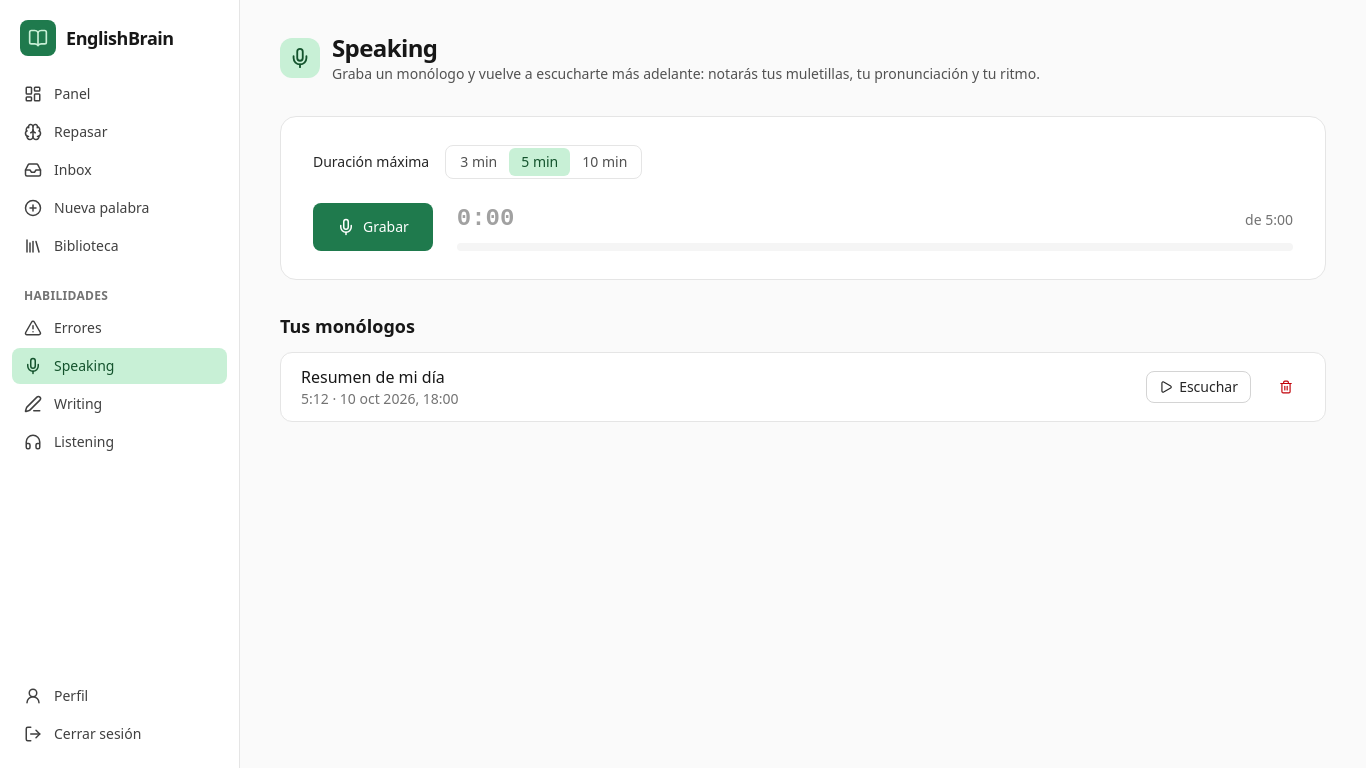
13.3 · Grabar, previsualizar y subir › "Subir" envía el MP3 con título, duración y límite, y lo pone arriba de la lista
Click the button "10 min" at (605, 162), box [570,148,639,176]
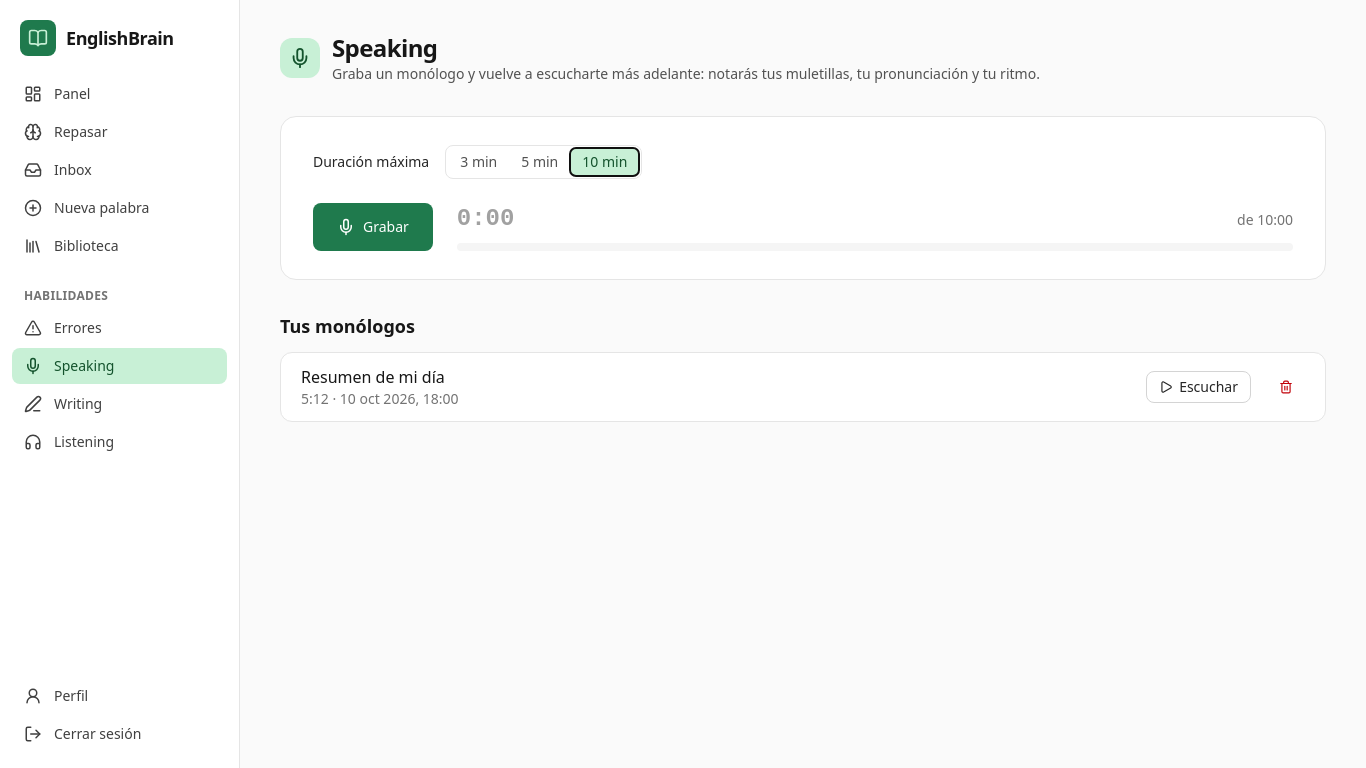
Click the button "Grabar" at (373, 227), box [313,203,433,251]
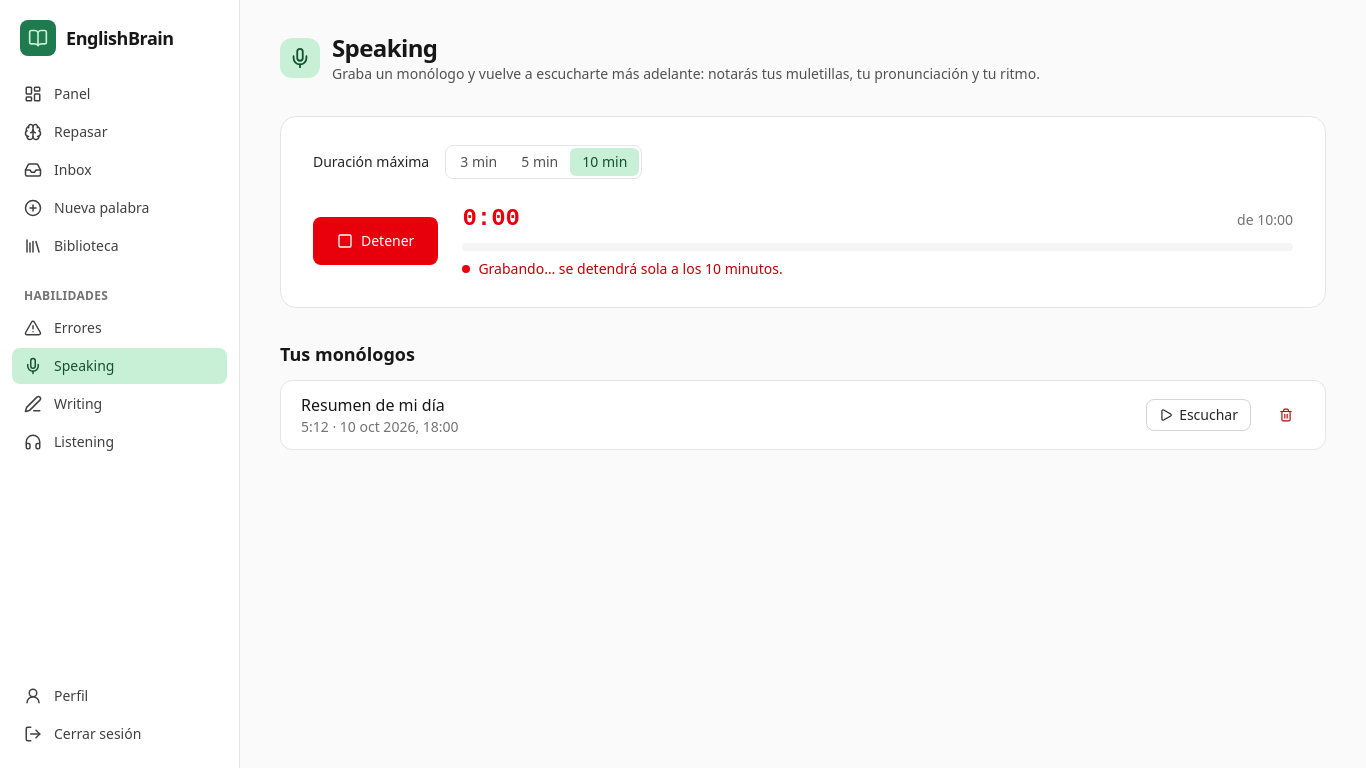
Click the button "Detener" at (376, 241), box [313,217,438,265]
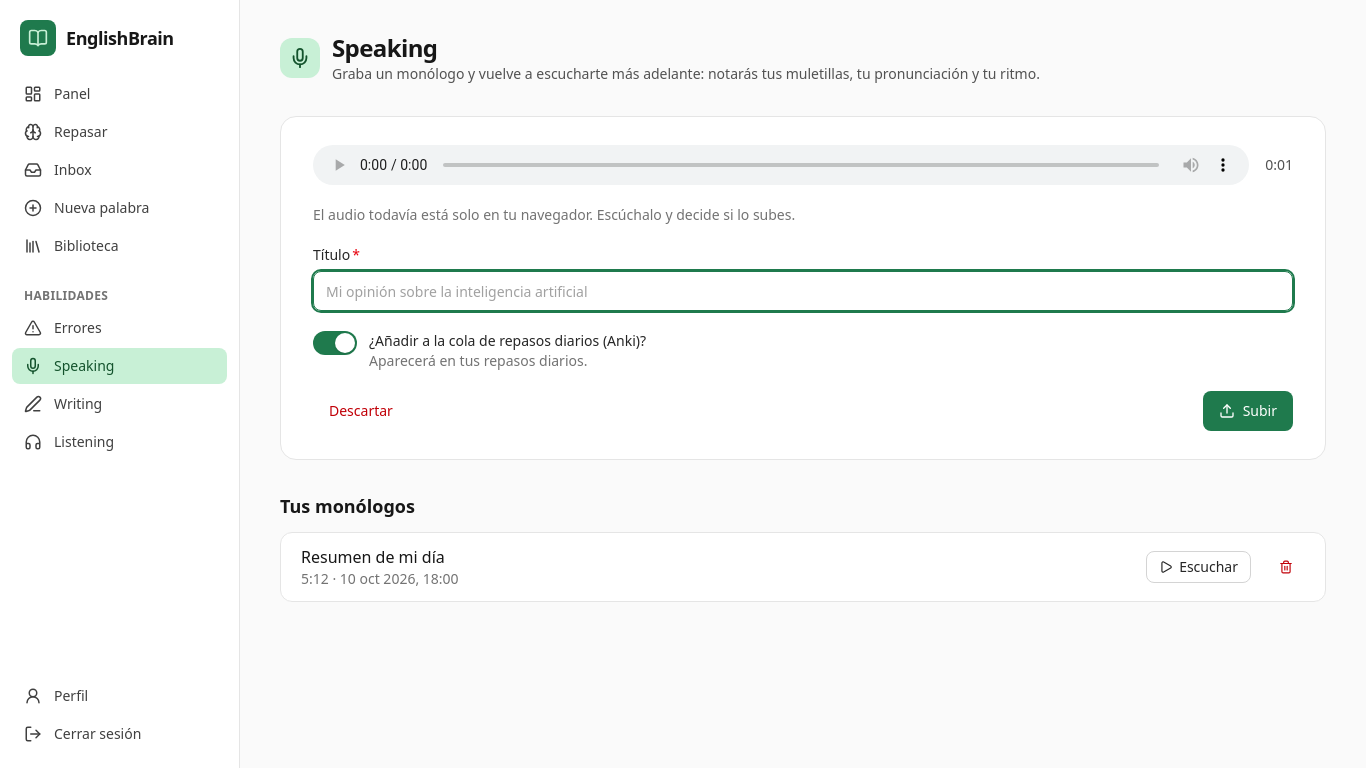
expect the element named "Escuchar tu grabación antes de subirla" is shown: met, box [313,145,1249,185]
Type "Mi opinión sobre la IA" into the field labelled "Título*" at (803, 291), box [313,271,1293,311]
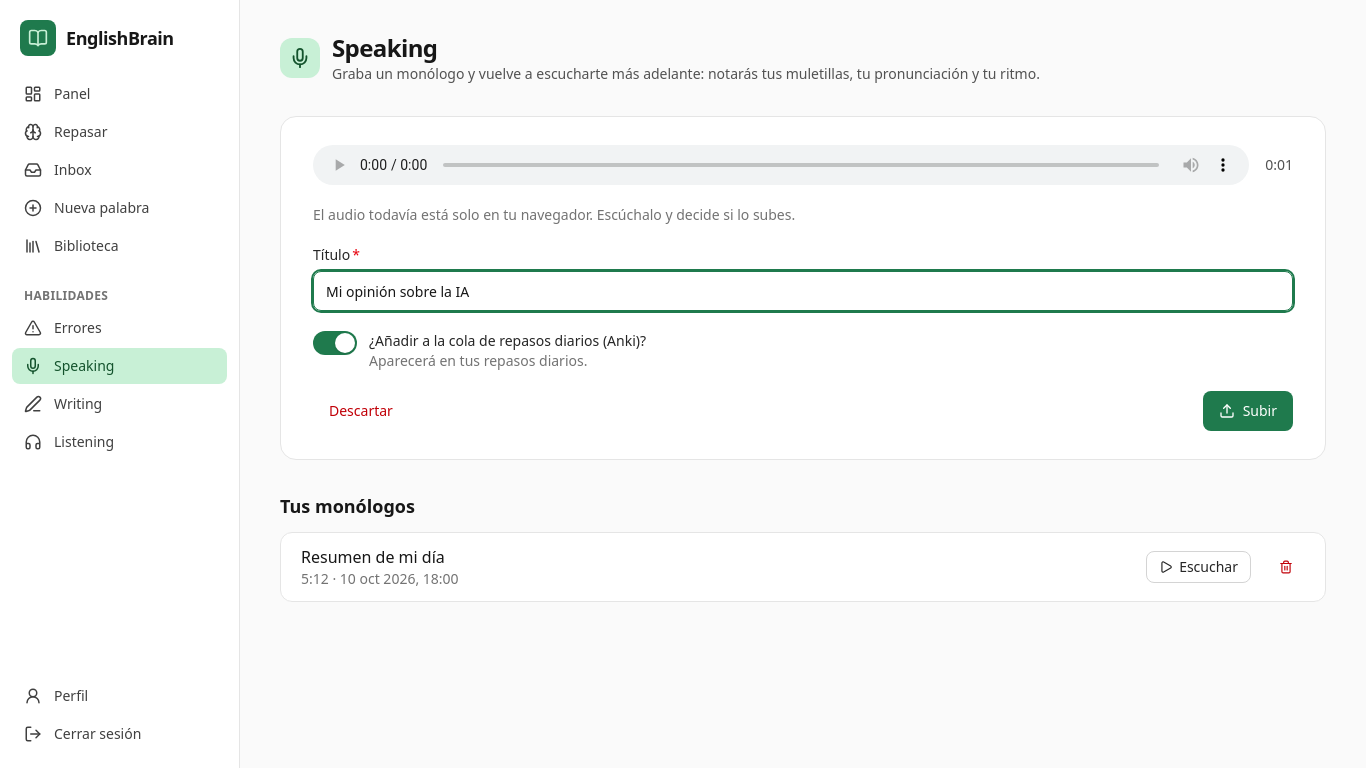
Click the switch at (335, 343), box [313,331,357,355]
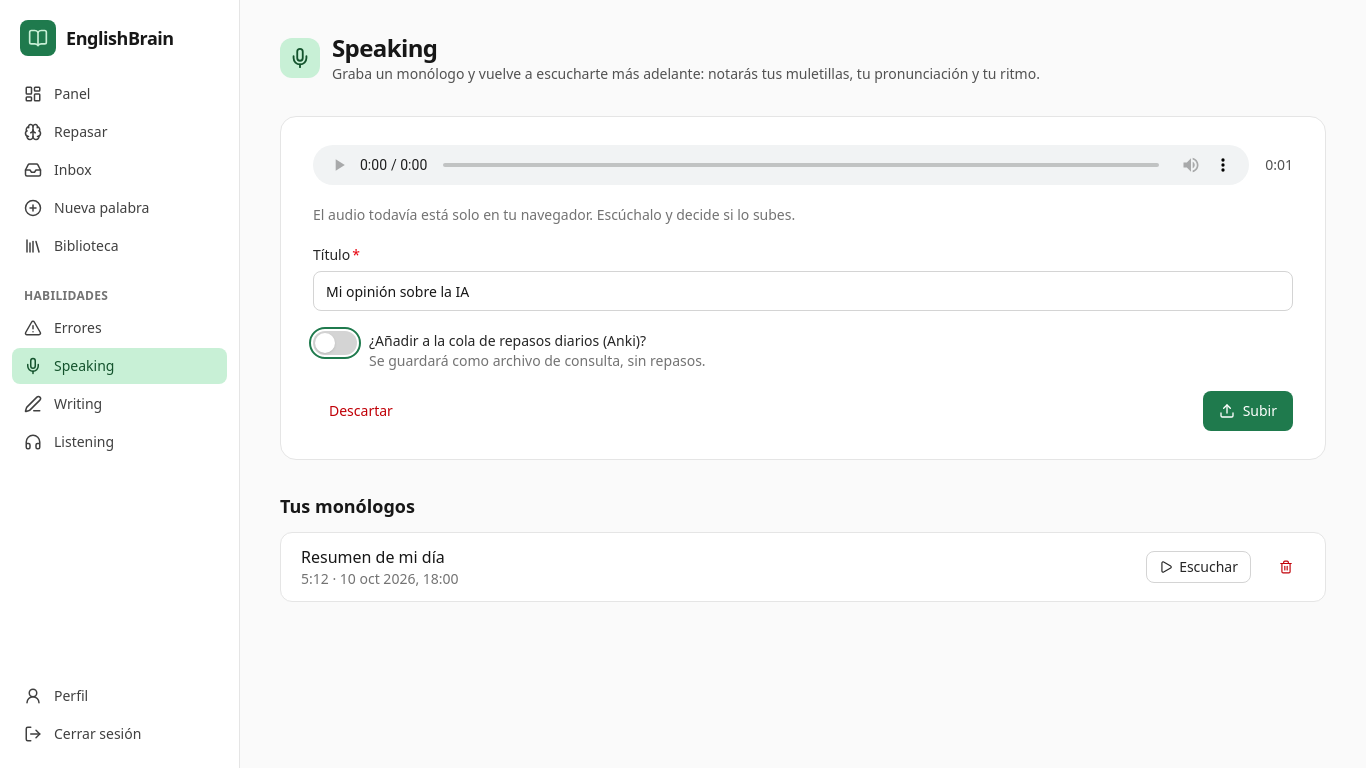
Click the button "Subir" at (1248, 411), box [1203,391,1293,431]
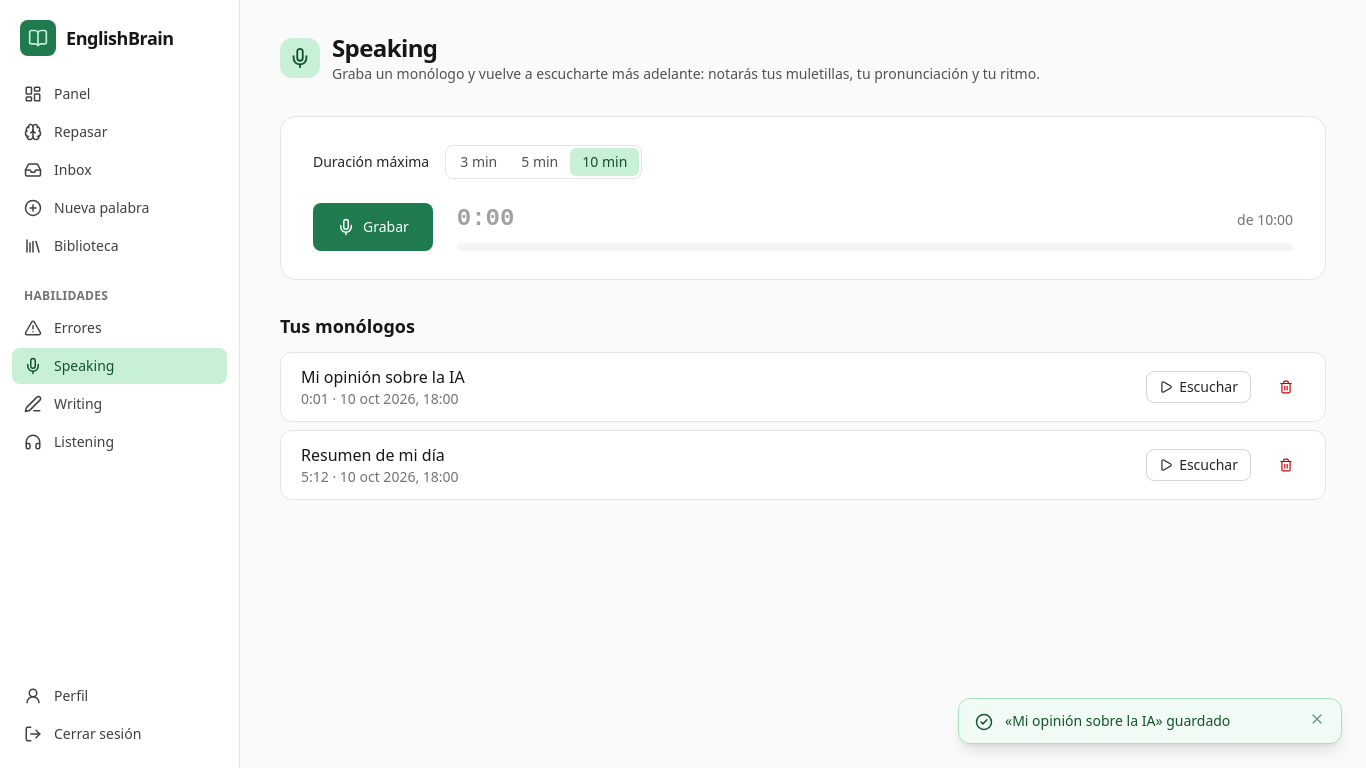
expect the text "«Mi opinión sobre la IA» guardado" is shown: met, box [1005,711,1230,730]
expect the text "Mi opinión sobre la IA" is shown: met, box [301,366,465,388]
expect the button "Grabar" is shown: met, box [313,203,433,251]
